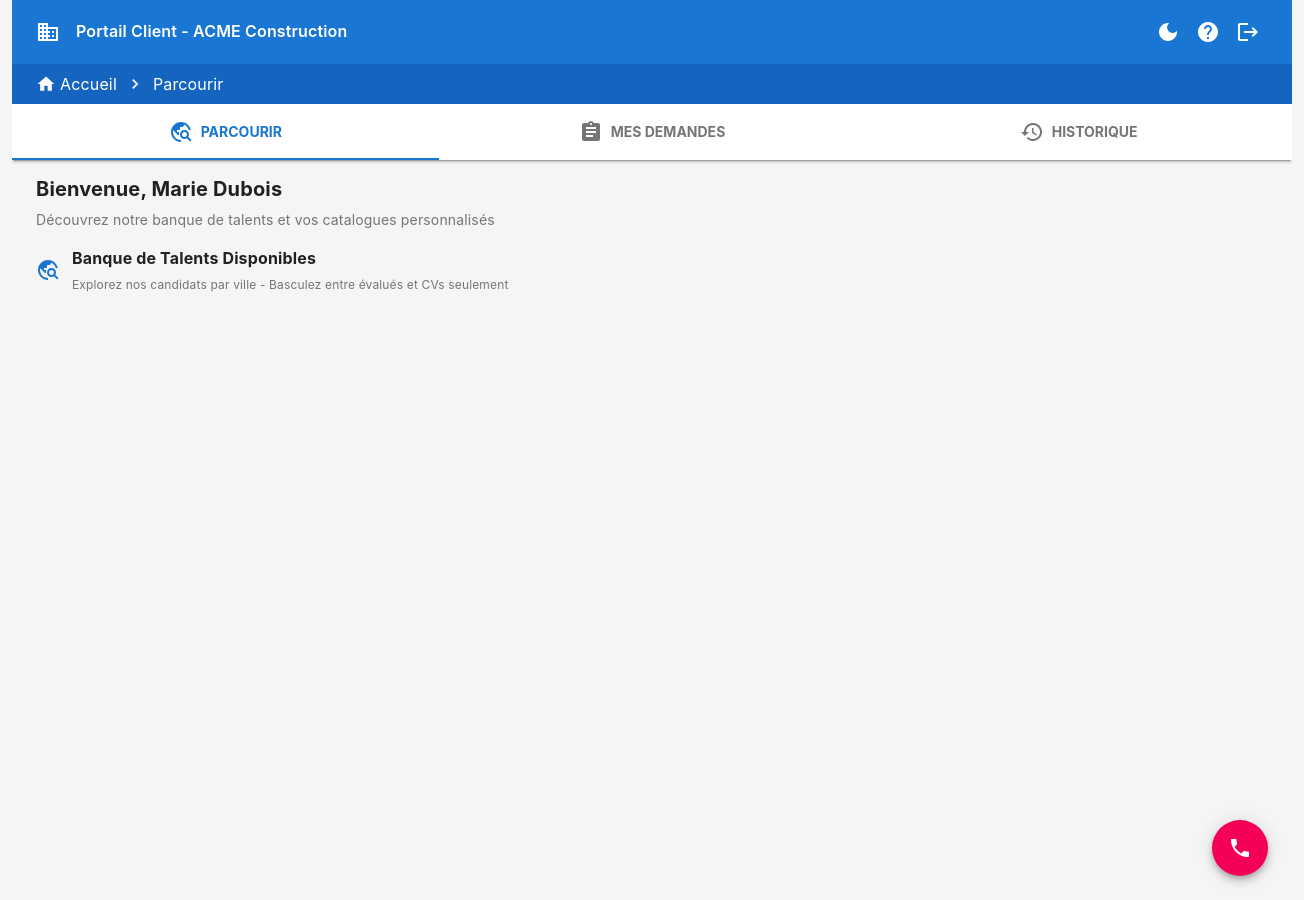
Test: ClientDashboardPage › charge les catalogues au montage et les affiche dans l'onglet Mes Demandes
Click the tab "Mes Demandes". click: (652, 132)
box: left=439, top=104, right=865, bottom=160
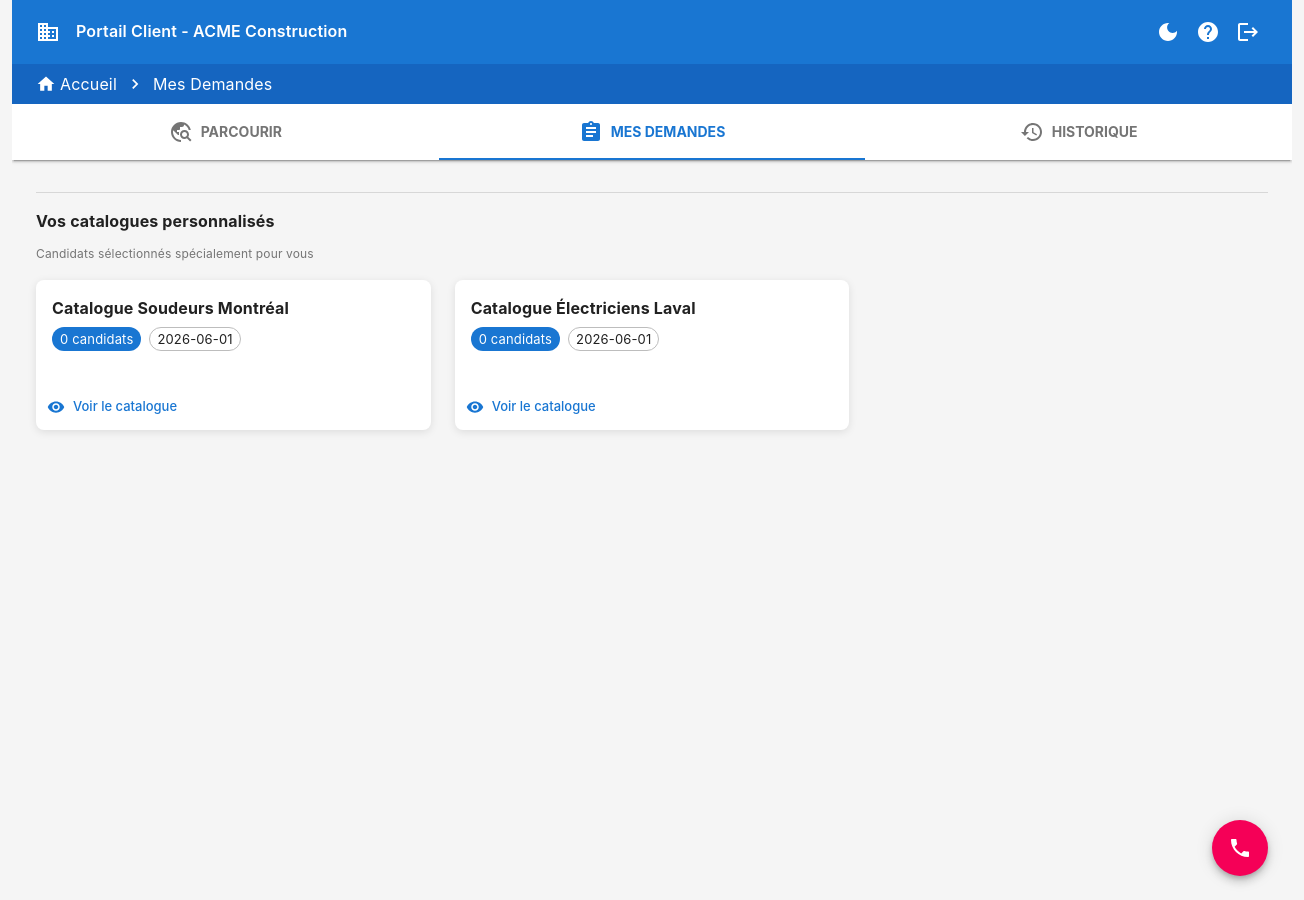
Result: the heading "Catalogue Soudeurs Montréal" is shown at left=52, top=298, right=289, bottom=318
Result: the heading "Catalogue Électriciens Laval" is shown at left=471, top=298, right=696, bottom=318
Result: the number of buttons "Voir le catalogue" is 2 at left=44, top=391, right=182, bottom=422; left=463, top=391, right=601, bottom=422
